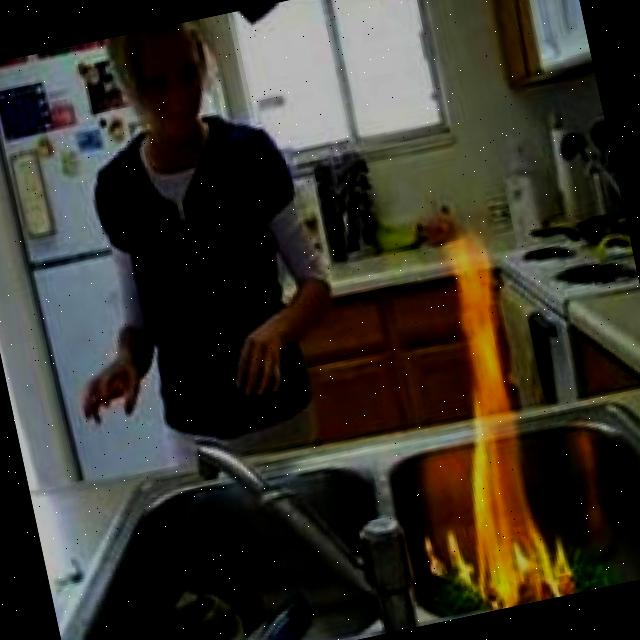fire: (408, 231, 578, 613), (420, 526, 480, 589)
